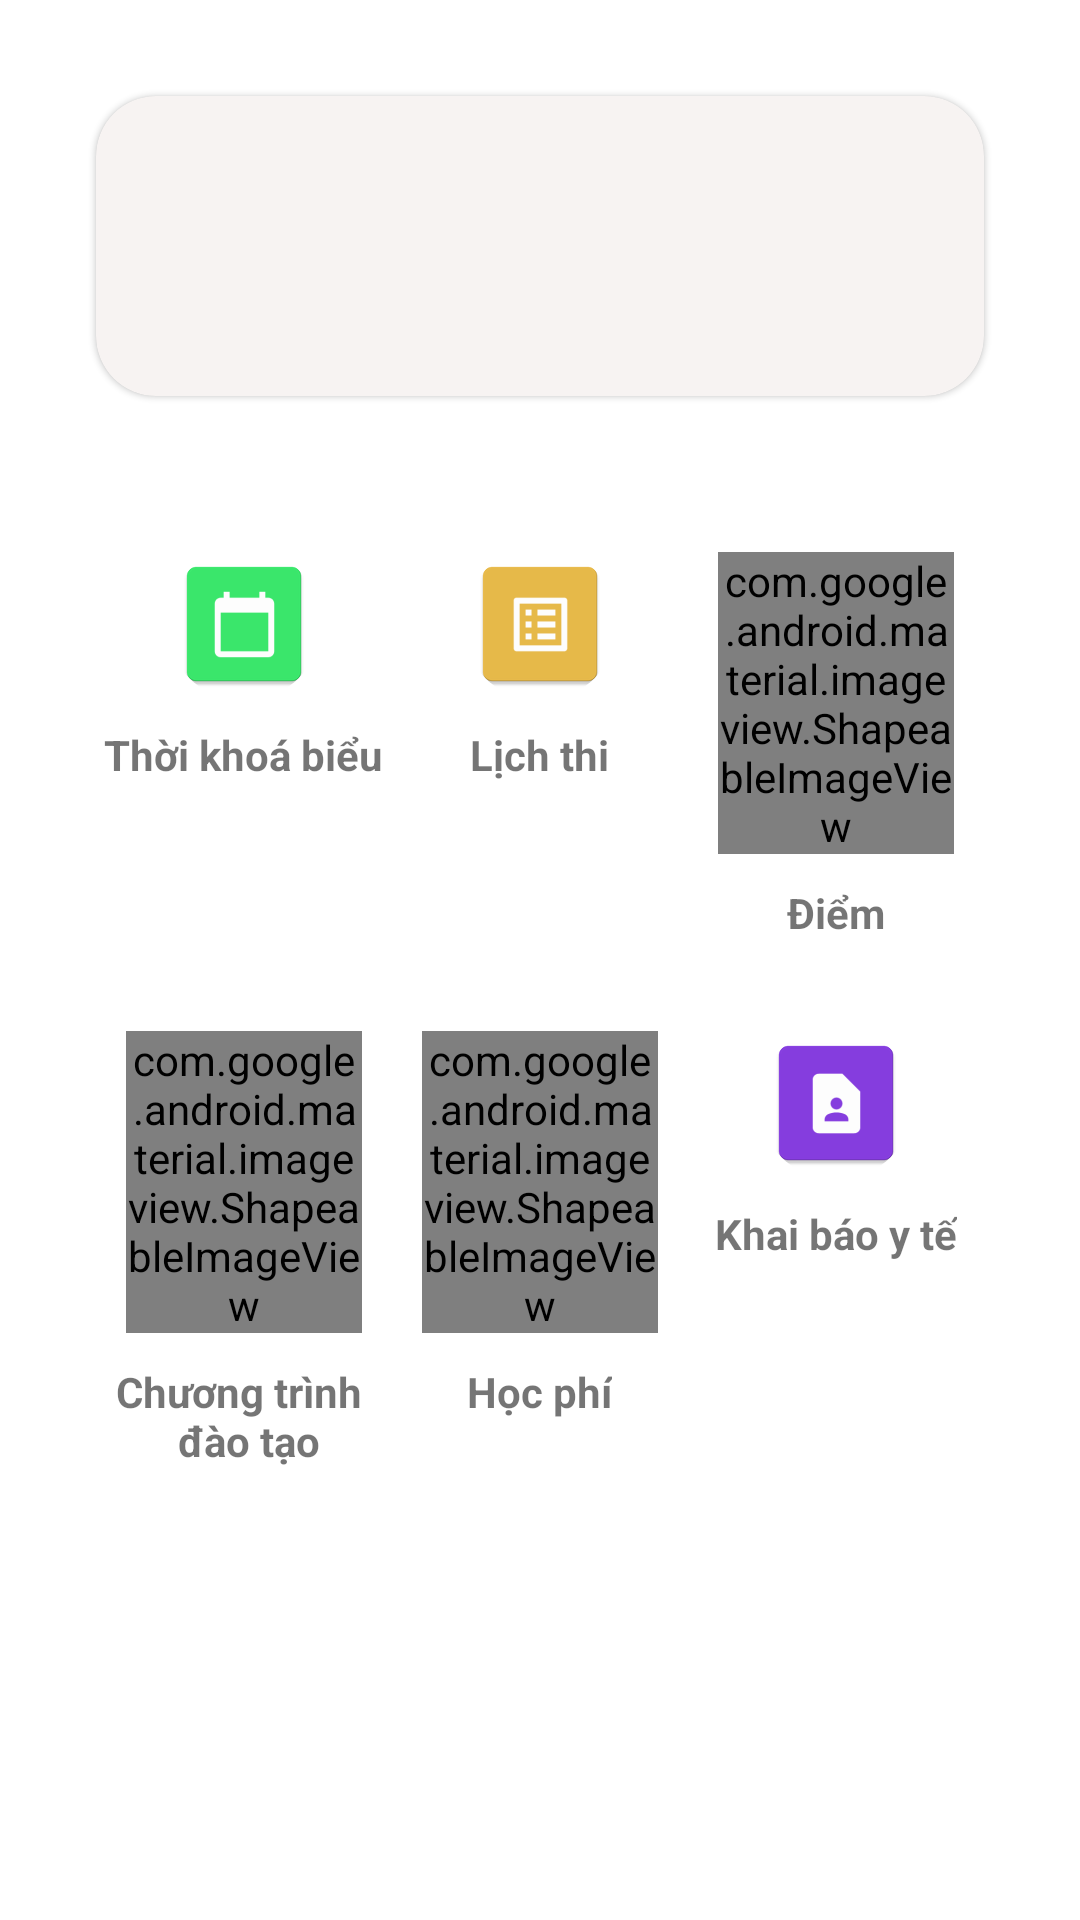

Icon bounding boxes for this 1080x1920 phone screenshot, format (x1, y1, x2, y2):
calendar: (186, 566, 302, 685)
contact page: (778, 1045, 894, 1164)
list: (482, 567, 598, 685)
